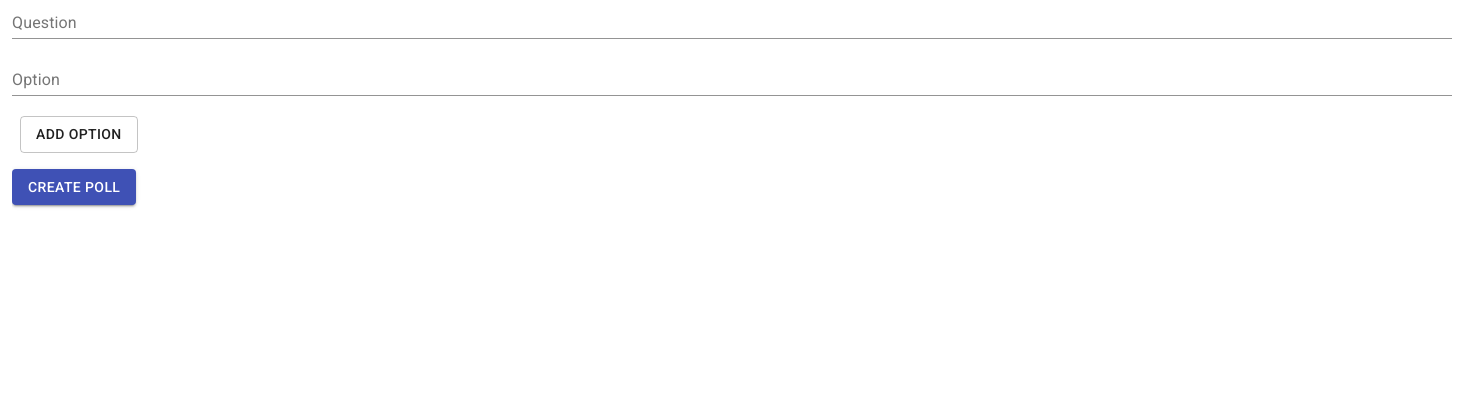
Component PollCreator › deleting › deletes proper option on delete click
The image size is (1464, 395).
Type "option 1" into the field labelled "Option" at [732, 82], box [12,67,1452,96]
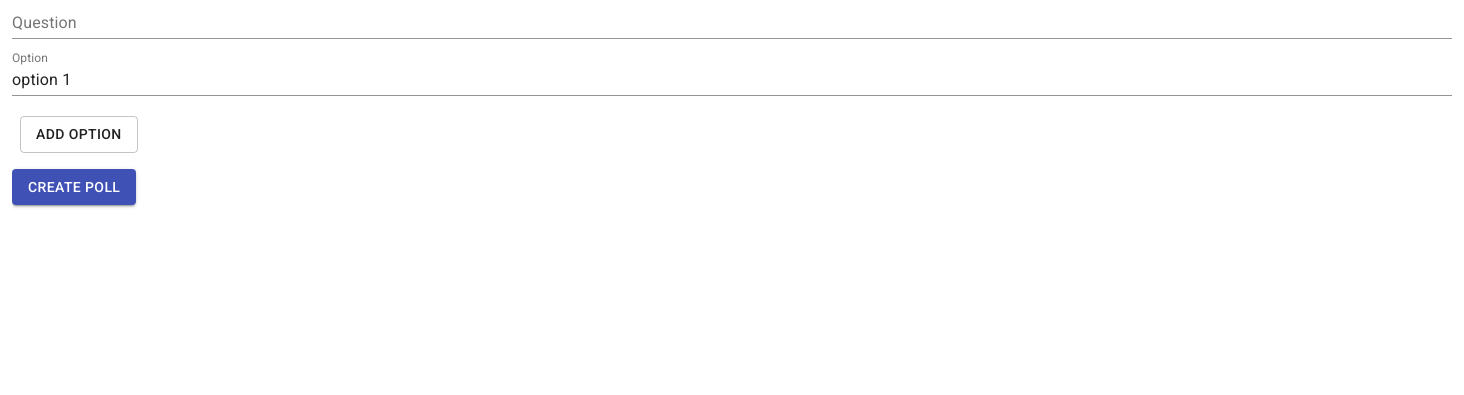
Click the button "Add option" at [79, 134], box [20,116,138,152]
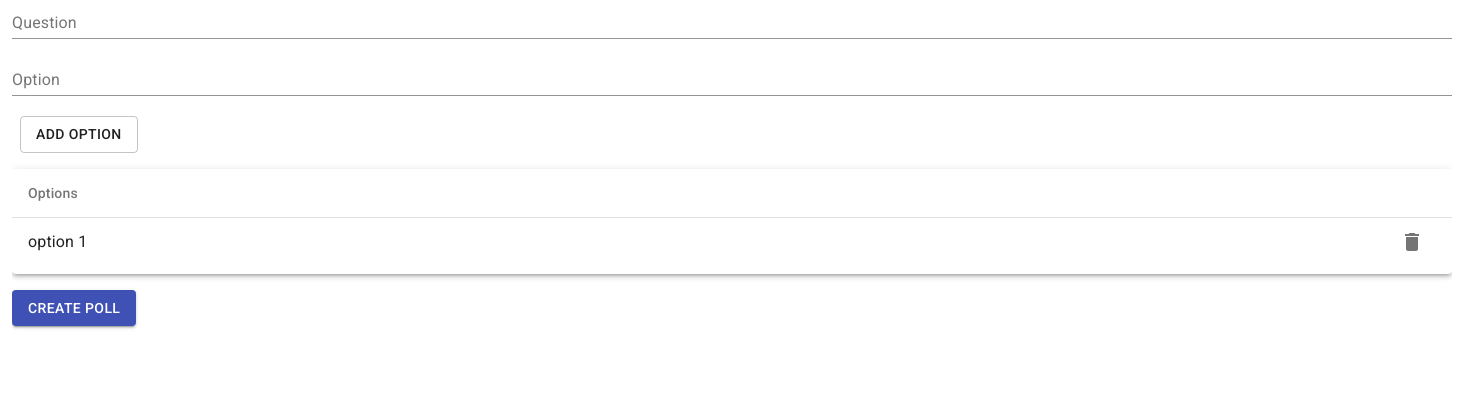
Type "option 2" into the field labelled "Option" at [732, 82], box [12,67,1452,96]
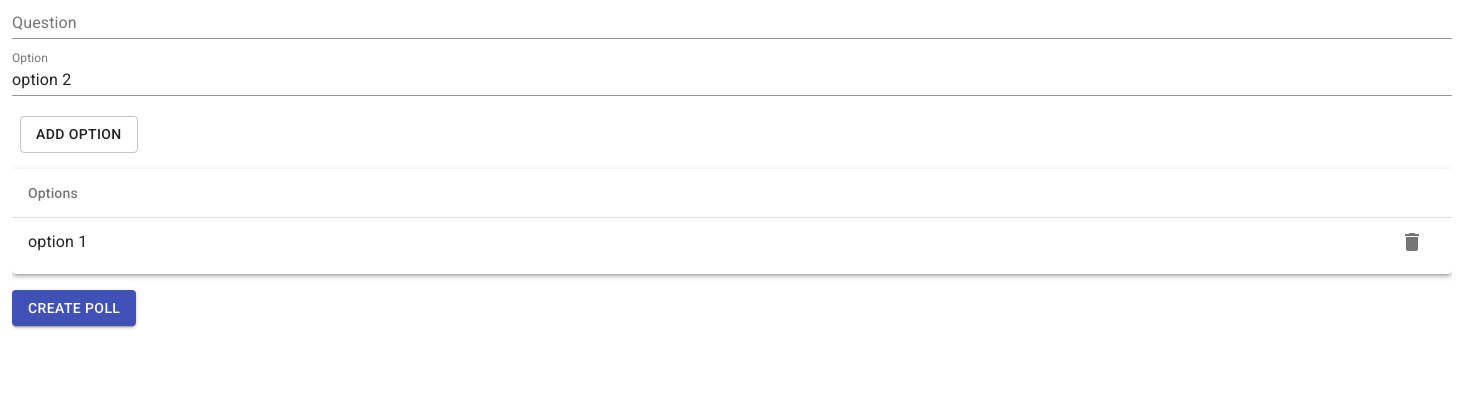
Click the button "Add option" at [79, 134], box [20,116,138,152]
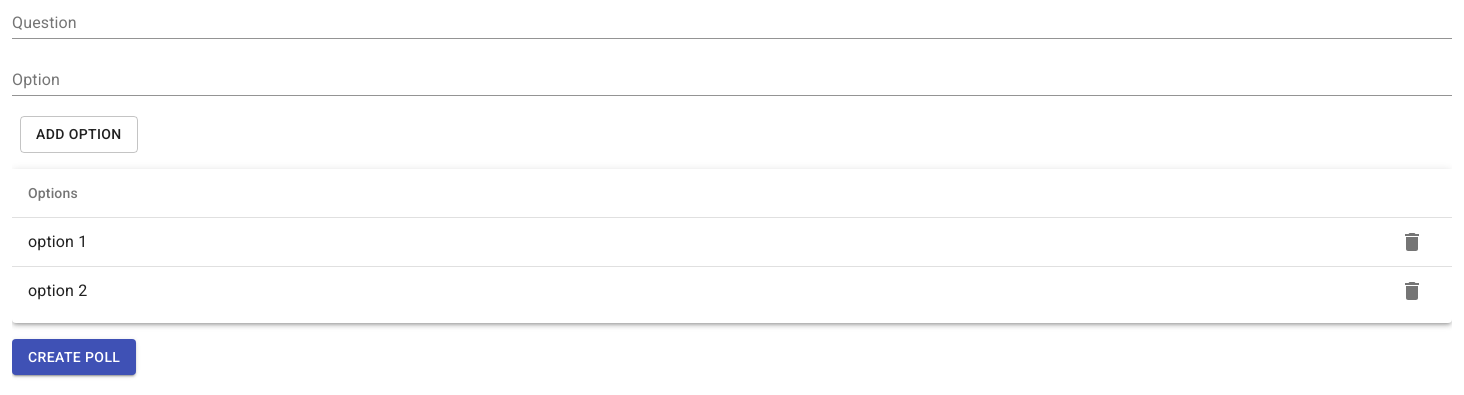
Click the 1st button titled "Delete" at [1412, 242], box [1388,218,1436,266]
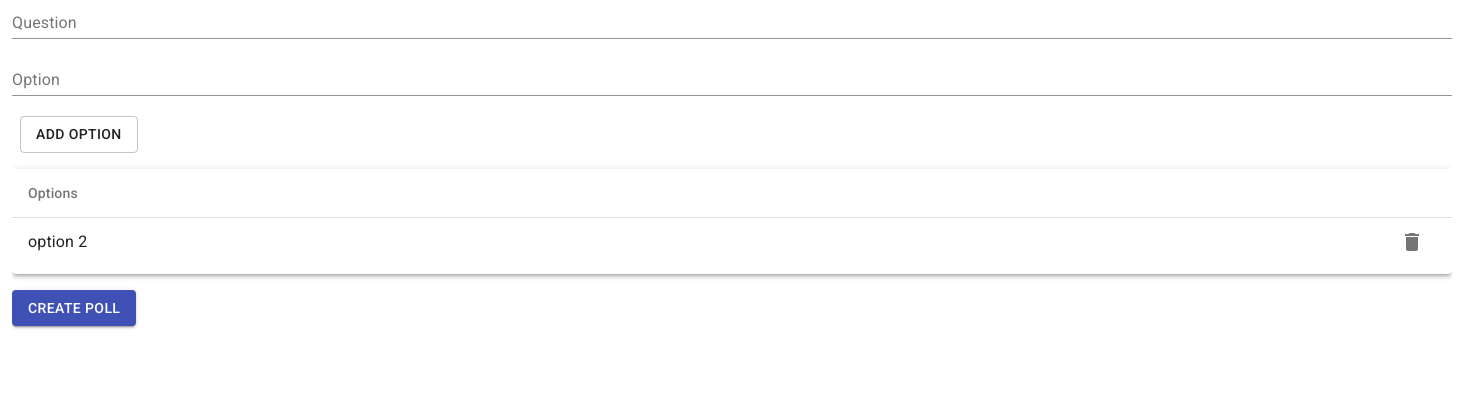
Check: the text "option 2" is shown, box [28,230,87,254]
Check: the button "option 1" is gone
